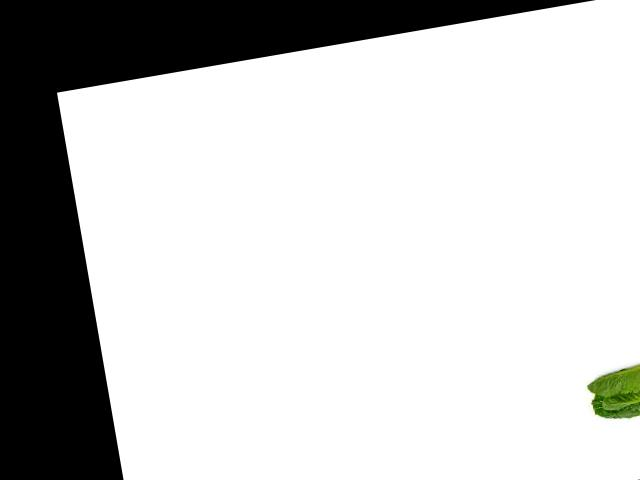lettuce: (582, 347, 640, 423)
